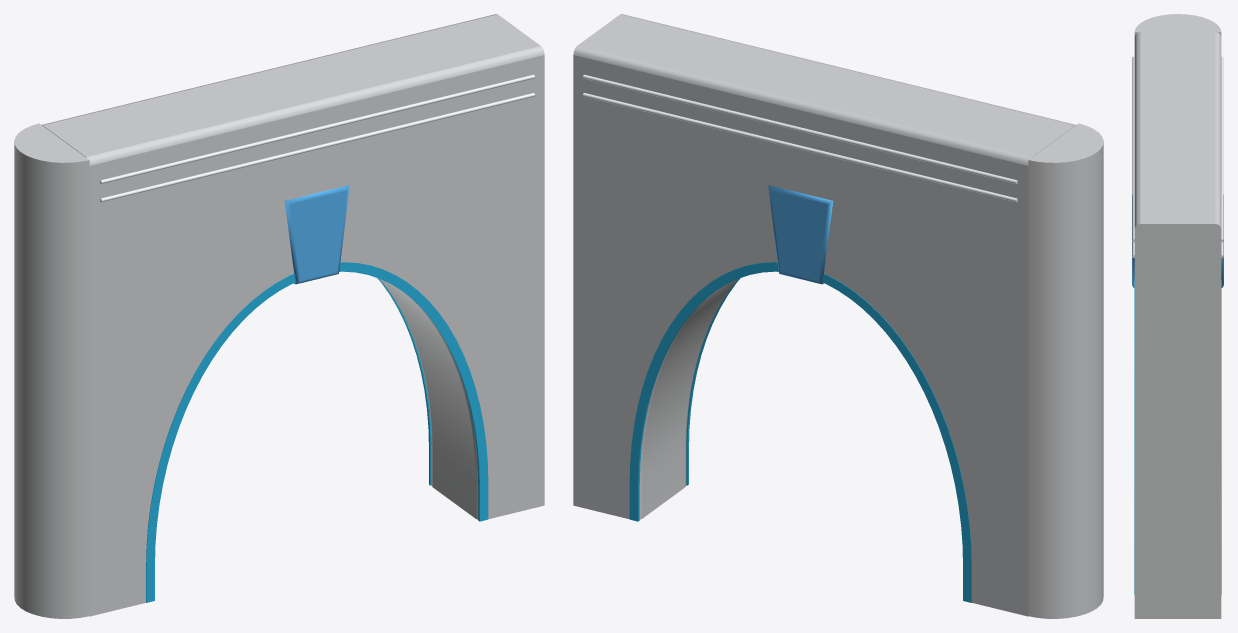
File: Arch_D07_GlassKeystone.fbx
3 views of the same model, side by side, from view 1: azimuth 30°, elevation 25°; view 2: azimuth 150°, elevation 25°; view 3: azimuth 270°, elevation 25° (orthographic). The views are drawn at different scales.
Parts seen in each view (by area): view 1: Arch_D07_GlassKeystone; view 2: Arch_D07_GlassKeystone; view 3: Arch_D07_GlassKeystone.
Part boxes in pixels (box(x1,y1,x2,y2)): Arch_D07_GlassKeystone: box(14, 14, 544, 618); Arch_D07_GlassKeystone: box(573, 14, 1103, 618); Arch_D07_GlassKeystone: box(1132, 14, 1223, 618).
Size of the model in its own units: 2.29 by 2.01 by 0.424.
